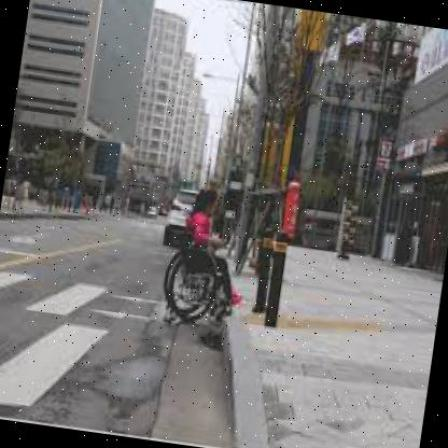wheel: (160, 186, 256, 334)
